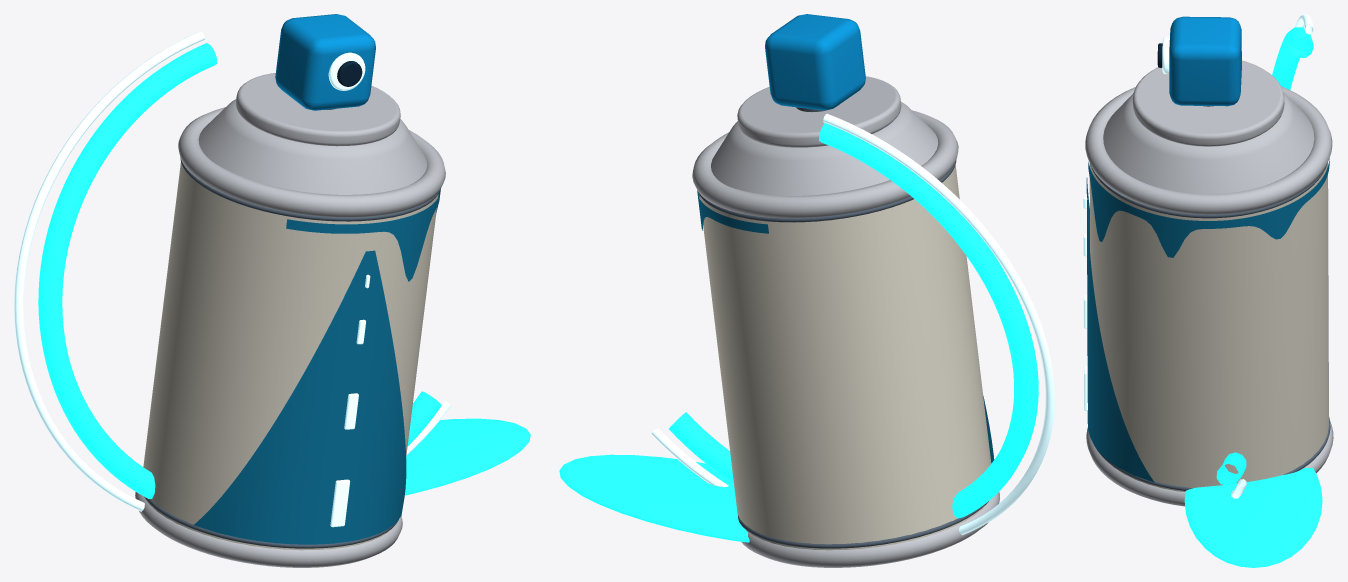
File: route-painter.glb
3 renders of one model, left to right at view 1: azimuth 30°, elevation 25°; view 2: azimuth 150°, elevation 25°; view 3: azimuth 270°, elevation 25°, orthographic. The views are drawn at different scales.
Visible parts, largest first — view 1: Item_Painter_ivory_can_enamel, Item_Painter_glossy_blue_paint, Item_Painter_satin_aluminum, FX_Painter_cyan_fresh_paint, Item_Painter_blue_spray_button, FX_Painter_pale_road_dashes, Item_Painter_crimp_recess, Item_Painter_pale_road_dashes; view 2: Item_Painter_ivory_can_enamel, Item_Painter_satin_aluminum, FX_Painter_cyan_fresh_paint, Item_Painter_blue_spray_button, FX_Painter_pale_road_dashes, Item_Painter_crimp_recess, Item_Painter_glossy_blue_paint; view 3: Item_Painter_ivory_can_enamel, Item_Painter_satin_aluminum, FX_Painter_cyan_fresh_paint, Item_Painter_glossy_blue_paint, Item_Painter_blue_spray_button, Item_Painter_crimp_recess, Item_Painter_pale_road_dashes, FX_Painter_pale_road_dashes.
Boxes of the visible parts, bbox=[...] form: Item_Painter_ivory_can_enamel: bbox=[143, 162, 438, 550]; Item_Painter_glossy_blue_paint: bbox=[194, 189, 440, 544]; Item_Painter_satin_aluminum: bbox=[135, 73, 445, 567]; FX_Painter_cyan_fresh_paint: bbox=[38, 43, 530, 498]; Item_Painter_blue_spray_button: bbox=[275, 14, 375, 110]; FX_Painter_pale_road_dashes: bbox=[14, 31, 451, 511]; Item_Painter_crimp_recess: bbox=[144, 108, 439, 548]; Item_Painter_pale_road_dashes: bbox=[328, 52, 370, 527]; Item_Painter_ivory_can_enamel: bbox=[699, 165, 991, 550]; Item_Painter_satin_aluminum: bbox=[692, 76, 999, 567]; FX_Painter_cyan_fresh_paint: bbox=[559, 123, 1038, 542]; Item_Painter_blue_spray_button: bbox=[765, 14, 865, 110]; FX_Painter_pale_road_dashes: bbox=[651, 113, 1054, 535]; Item_Painter_crimp_recess: bbox=[697, 105, 988, 548]; Item_Painter_glossy_blue_paint: bbox=[697, 190, 994, 463]; Item_Painter_ivory_can_enamel: bbox=[1089, 163, 1328, 491]; Item_Painter_satin_aluminum: bbox=[1085, 60, 1333, 506]; FX_Painter_cyan_fresh_paint: bbox=[1184, 27, 1322, 567]; Item_Painter_glossy_blue_paint: bbox=[1086, 158, 1329, 482]; Item_Painter_blue_spray_button: bbox=[1169, 16, 1241, 106]; Item_Painter_crimp_recess: bbox=[1089, 106, 1330, 490]; Item_Painter_pale_road_dashes: bbox=[1083, 37, 1169, 411]; FX_Painter_pale_road_dashes: bbox=[1231, 14, 1313, 498].
Bounding box in the file's own units: 1.08 × 1.03 × 0.5077.
